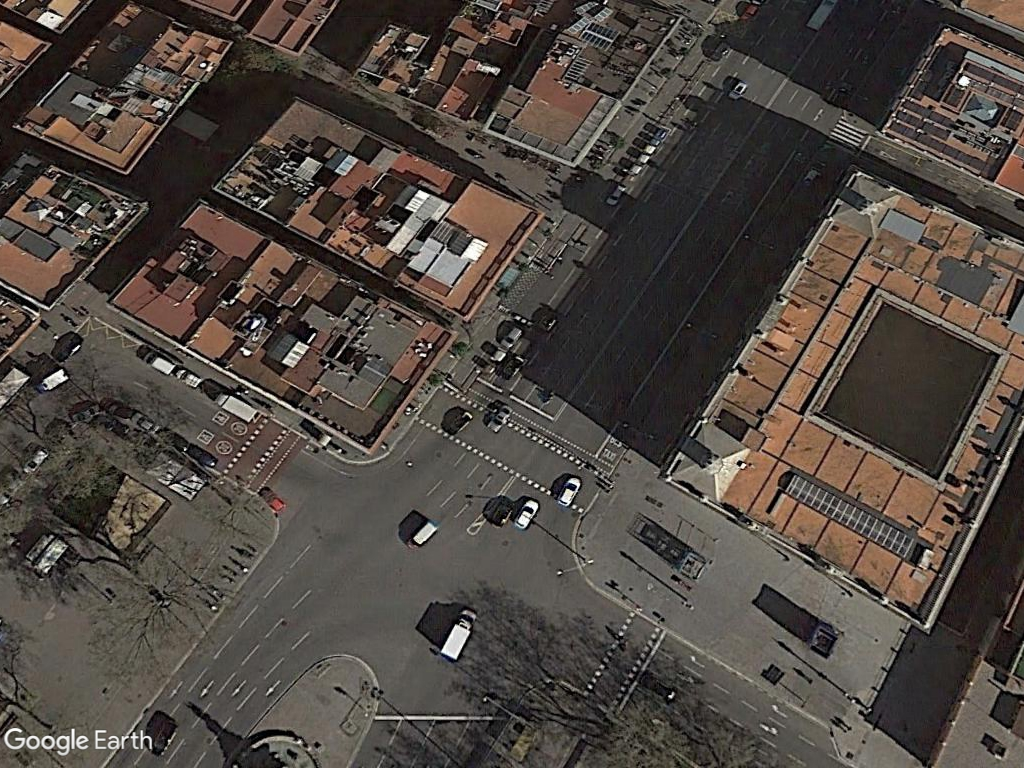car: (554, 471, 584, 512), (512, 494, 540, 533)
truck: (434, 600, 479, 665)
van: (213, 387, 260, 425)
